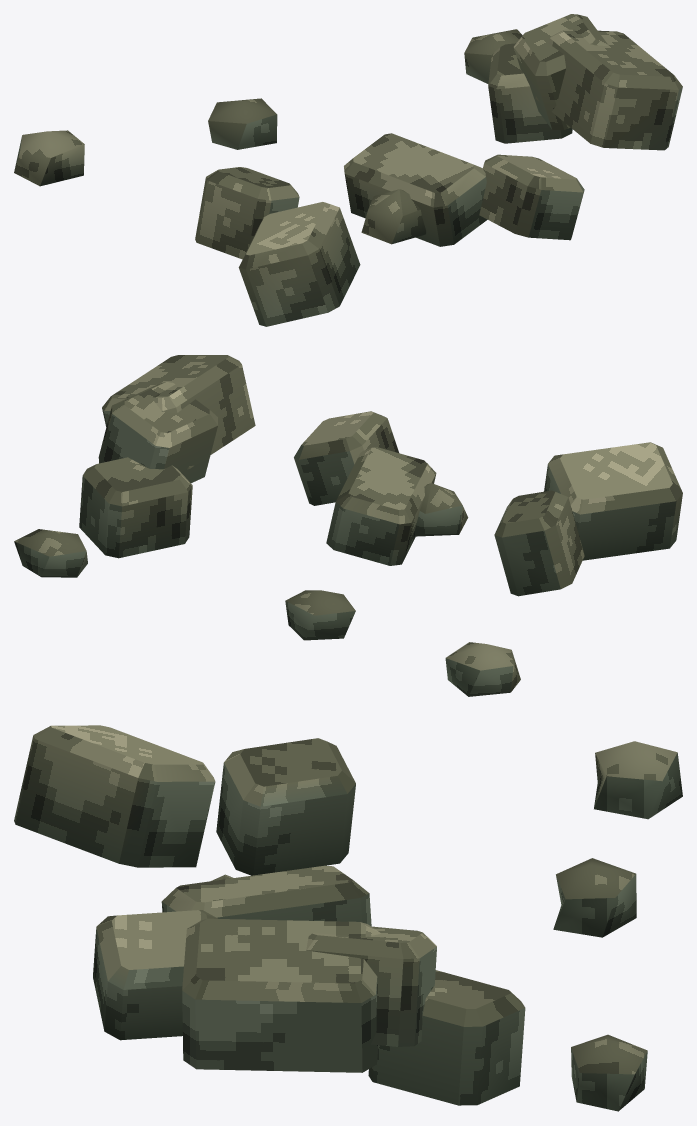
File: ruin.rubble__large.glb
3 views of the same model, one above another, from view 1: azimuth 30°, elevation 25°; view 2: azimuth 150°, elevation 25°; view 3: azimuth 270°, elevation 25° (orthographic). The views are drawn at different scales.
Parts seen in each view (by area): view 1: kit_blocks; view 2: kit_blocks; view 3: kit_blocks.
Boxes of the visible parts, bbox=[...] form: kit_blocks: bbox=[14, 14, 682, 326]; kit_blocks: bbox=[14, 355, 682, 696]; kit_blocks: bbox=[14, 725, 682, 1111].
Size of the model in its own units: 4.13 by 0.9647 by 3.4.
1 material, 1 textured.
